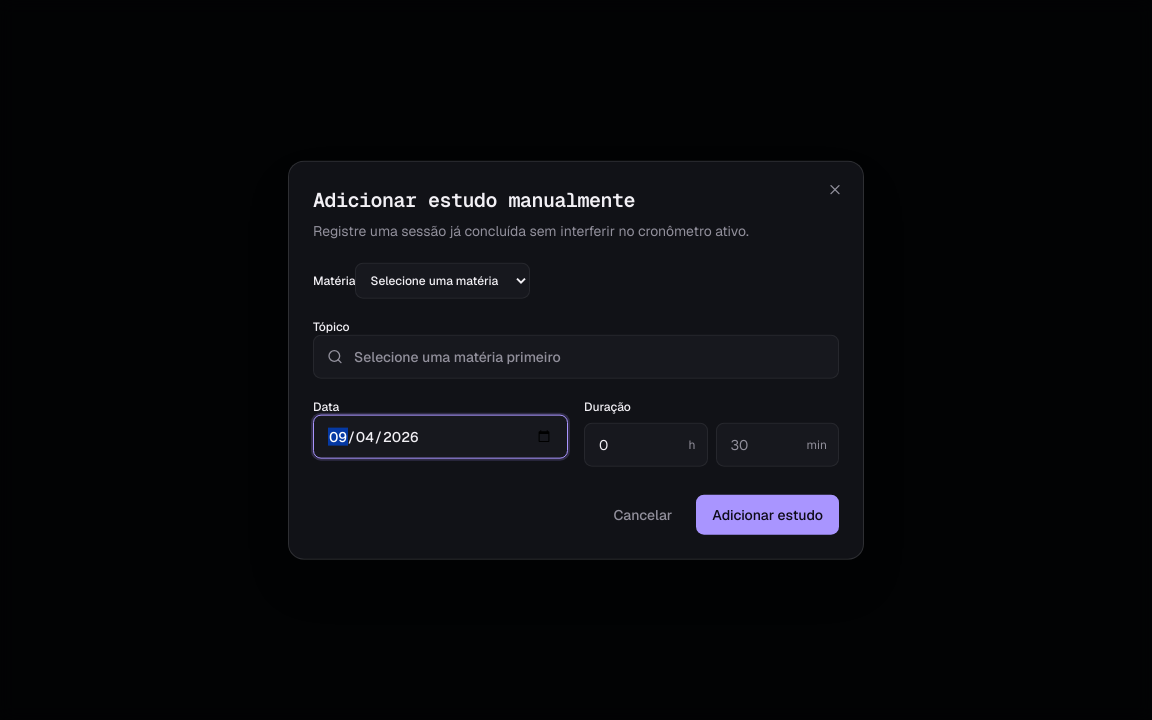
Scenario: ManualStudyDialog › não mistura tópicos ao trocar de matéria e valida duração
Step 1. Select "ENEM — Matemática" in the dropdown labelled "Matéria" → {"x": 443, "y": 280}, box [355,262,530,298]
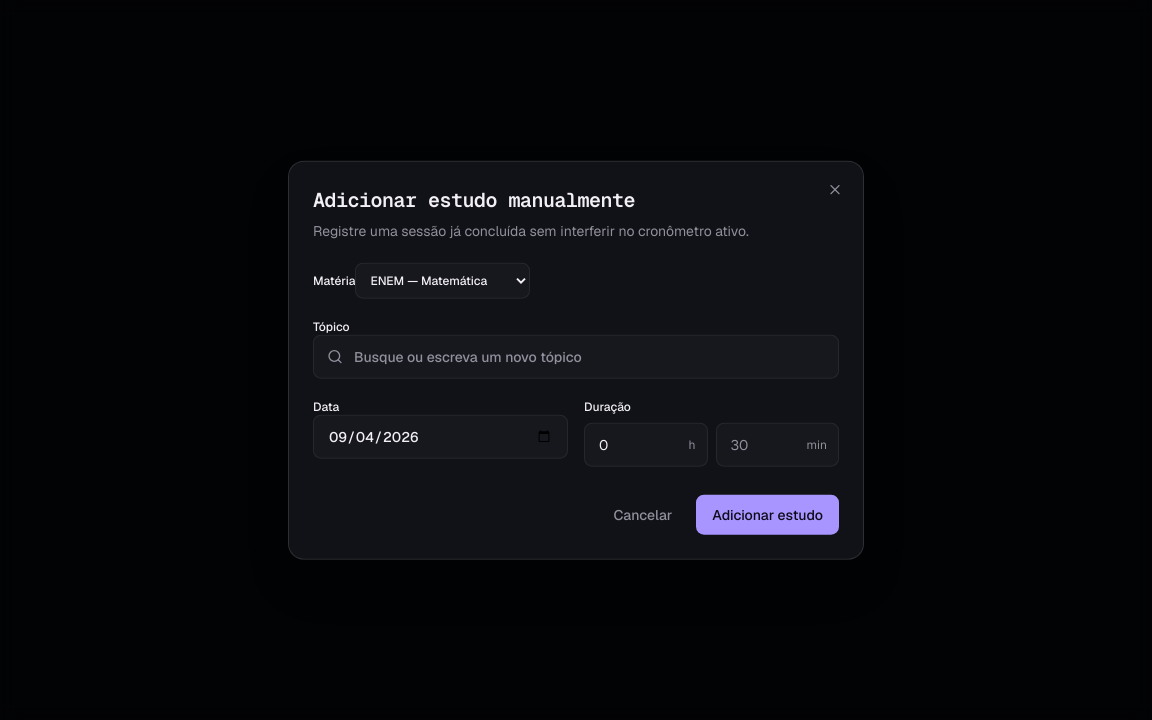
Step 2. Click the dropdown labelled "Tópico" → {"x": 576, "y": 356}, box [313,334,839,378]
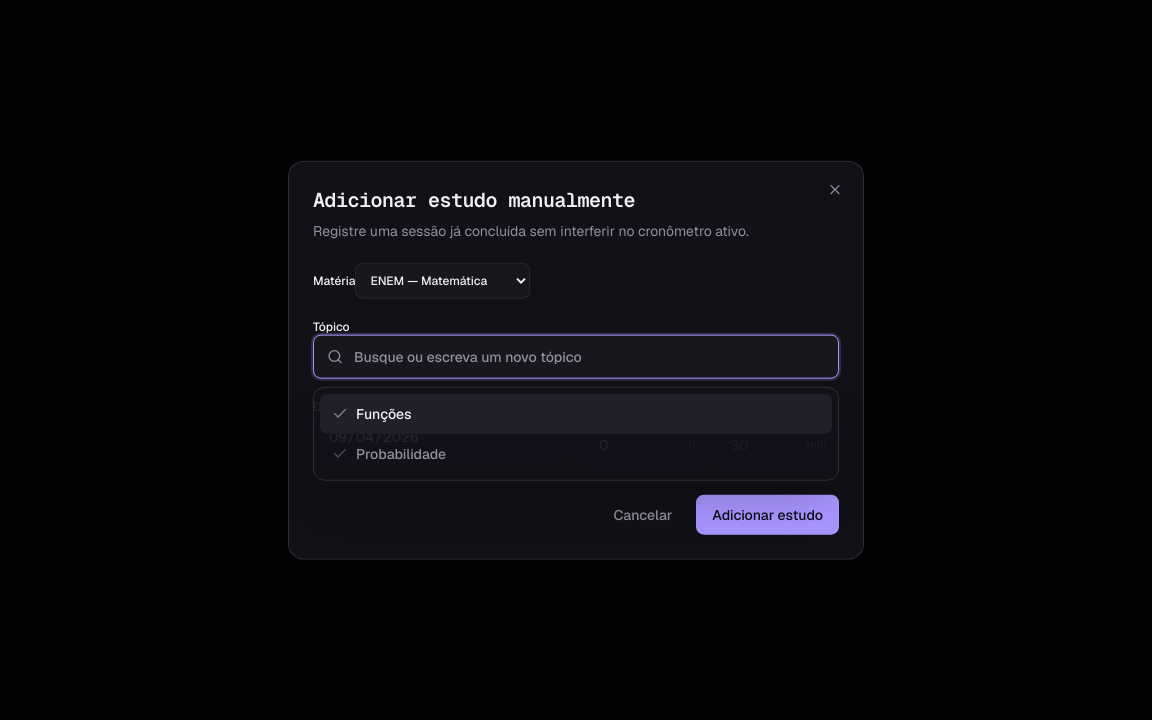
Check: the option "Funções" is shown
Step 3. Click the option "Funções" → {"x": 384, "y": 413}, box [320,393,832,433]
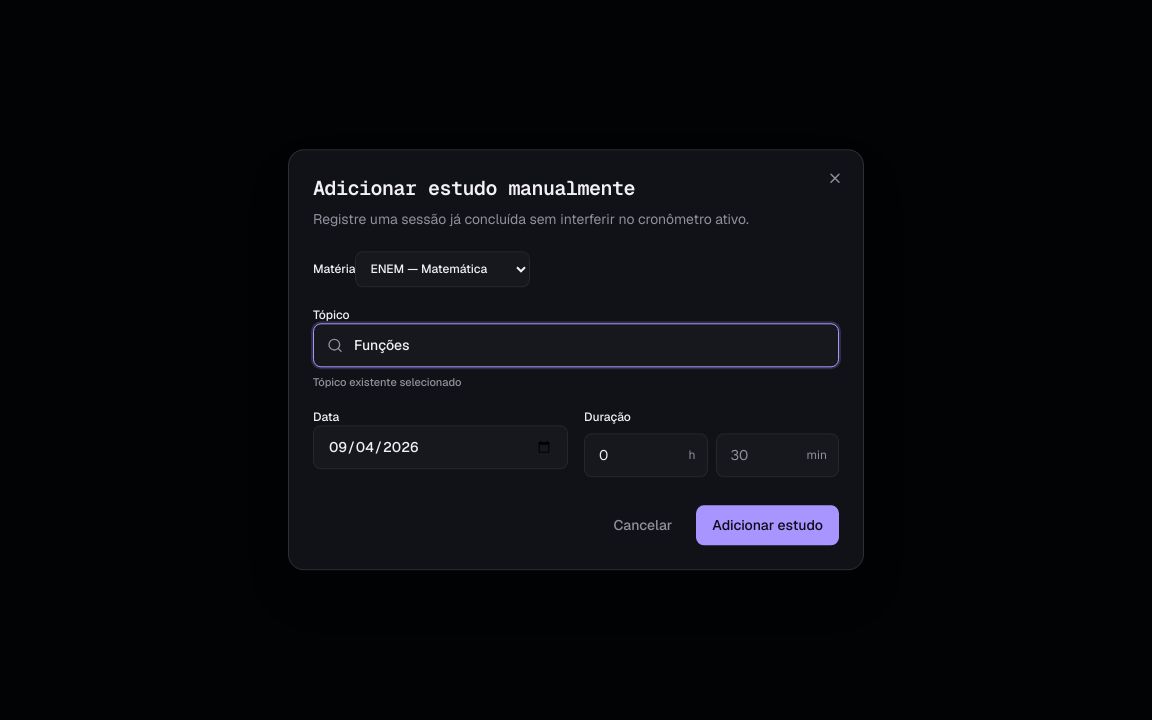
Step 4. Click the button "Adicionar estudo" → {"x": 768, "y": 526}, box [696,506,839,546]
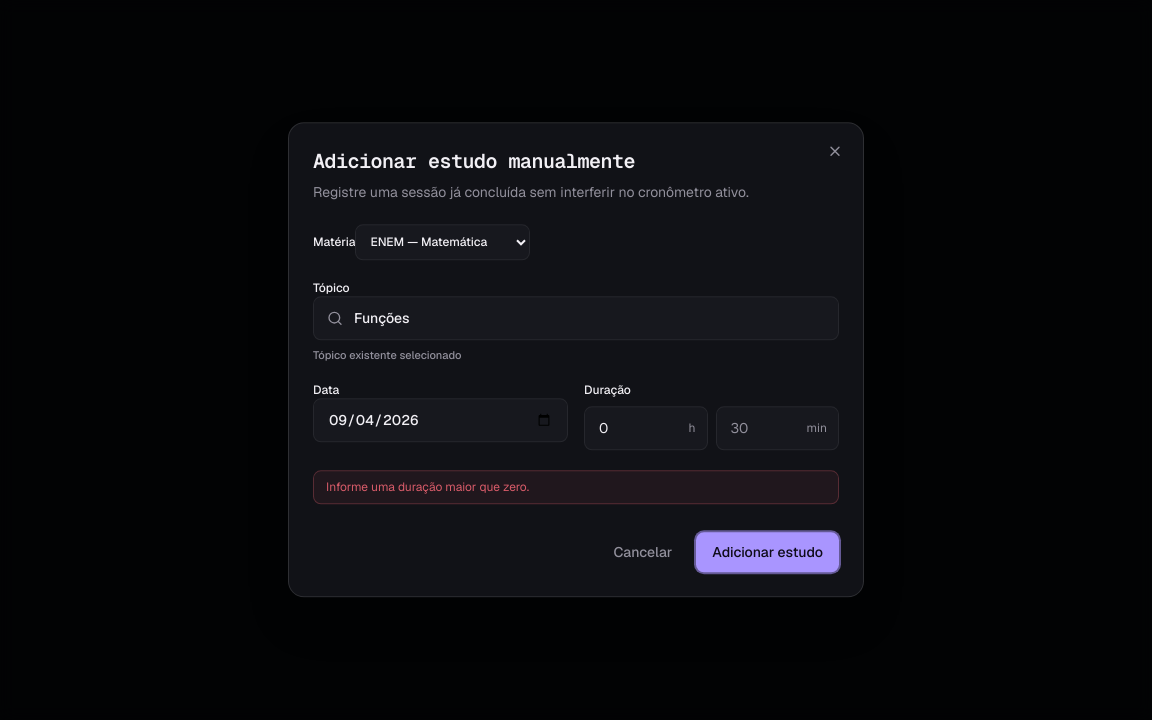
Check: the message reads "Informe uma duração maior que zero.", box [326,480,529,496]
